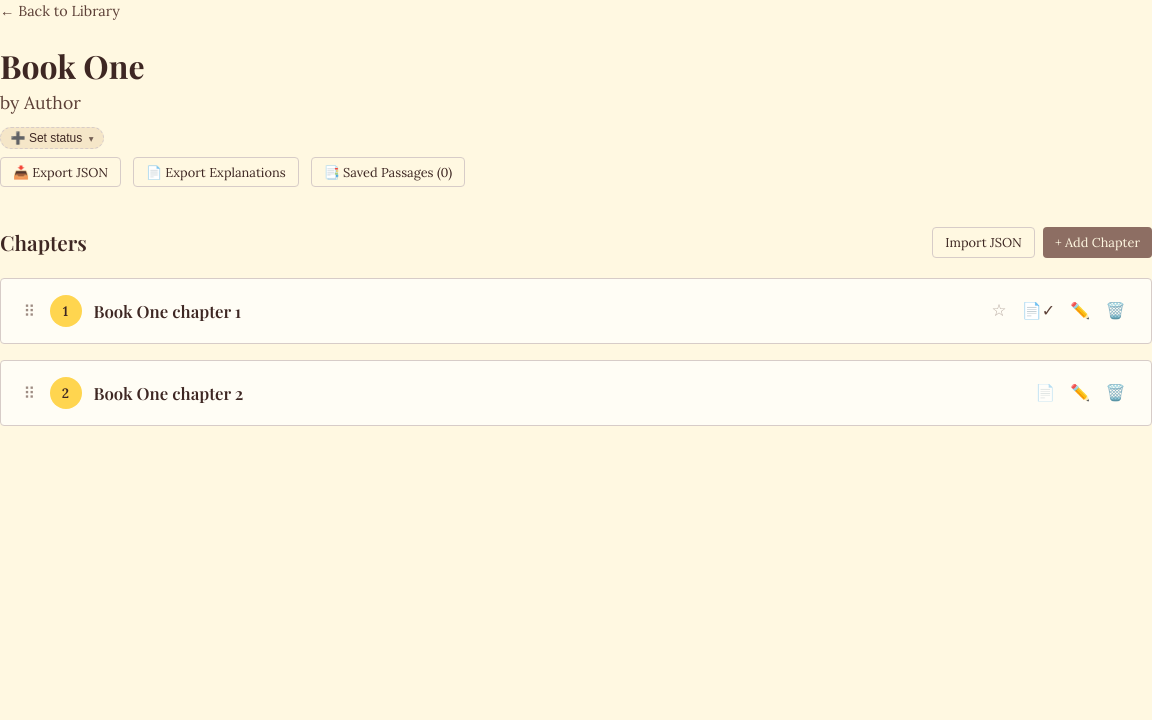
Test: chapters › opens a chapter's explanation when its header is clicked
This screenshot has width=1152, height=720.
Click the text "Book One chapter 1".
click(167, 311)  # box [94,300,241,322]
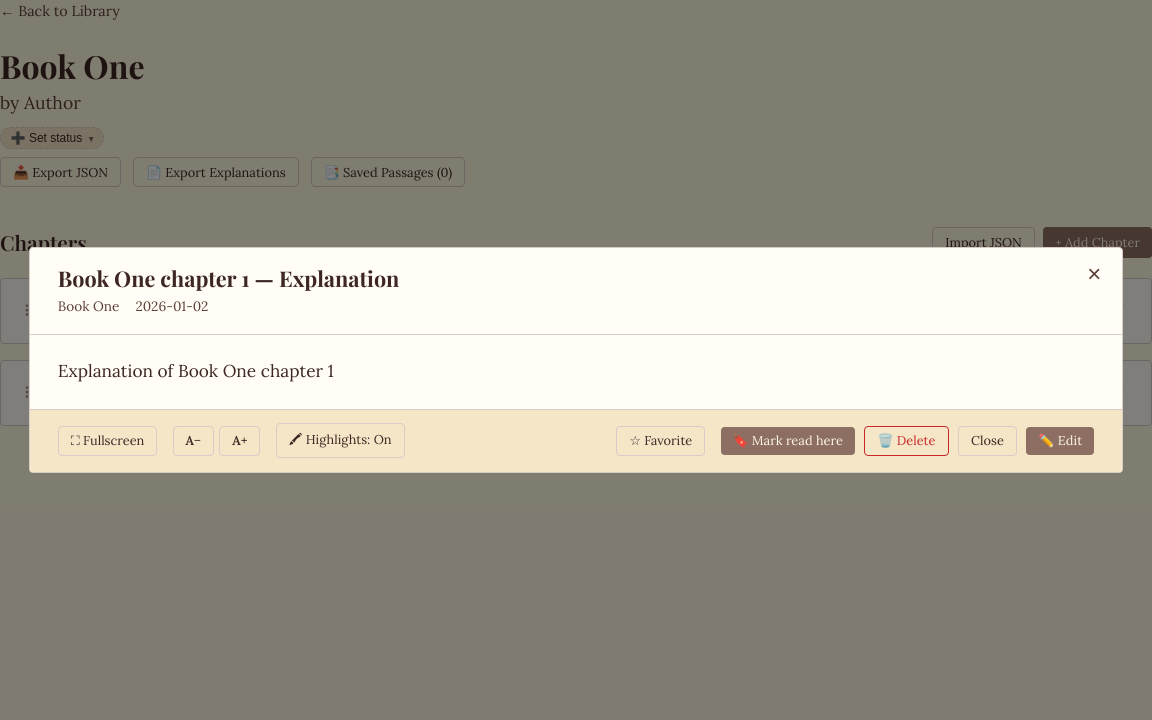
Expected: the text "Explanation of Book One chapter 1" is shown, [58,360,334,382]
